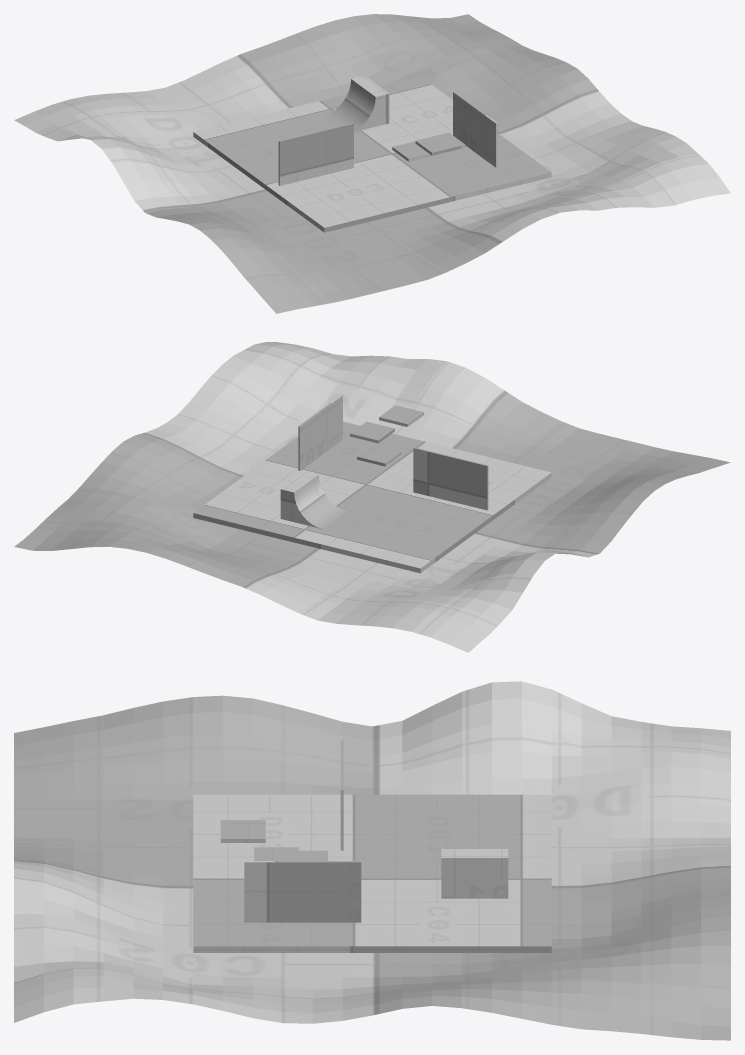
The model's file is vr-collider.obj.
3 renders of one model, top to bottom at view 1: azimuth 30°, elevation 25°; view 2: azimuth 150°, elevation 25°; view 3: azimuth 270°, elevation 25°, orthographic. The views are drawn at different scales.
Visible parts, largest first — view 1: Plane; view 2: Plane; view 3: Plane.
Boxes of the visible parts, <box> form: Plane: <box>14,14,730,313</box>; Plane: <box>14,342,730,652</box>; Plane: <box>14,681,730,1040</box>.
Bounding box in the file's own units: 32 × 5.92 × 32.
